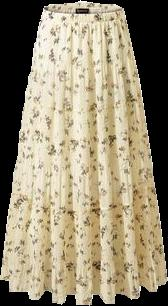Hemline: (0, 278, 167, 305)
Waistline: (43, 5, 125, 15)
